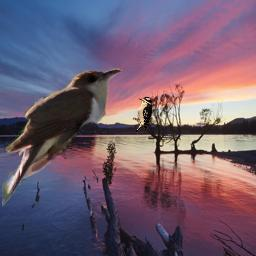Cuckoo: (2, 67, 122, 210)
Woodpecker: (132, 96, 153, 132)
